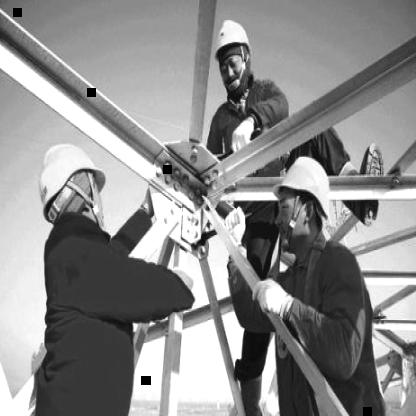helmet: (36, 140, 119, 204), (268, 150, 342, 220), (213, 13, 253, 61)
